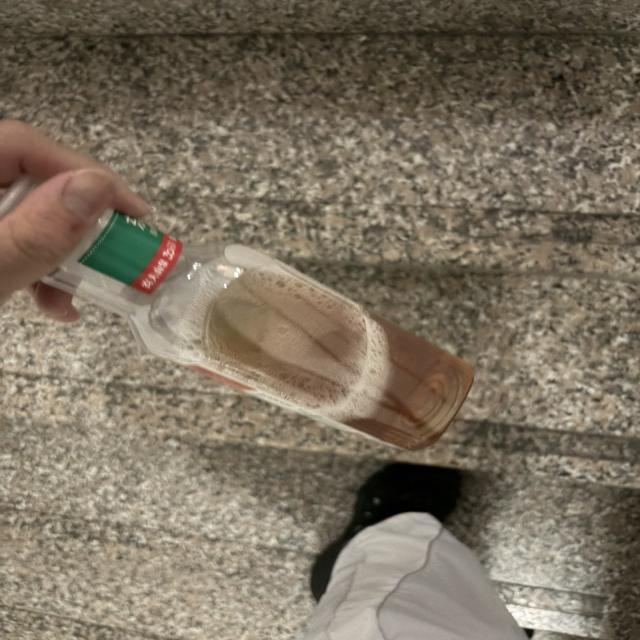medium: (42, 208, 472, 449)
